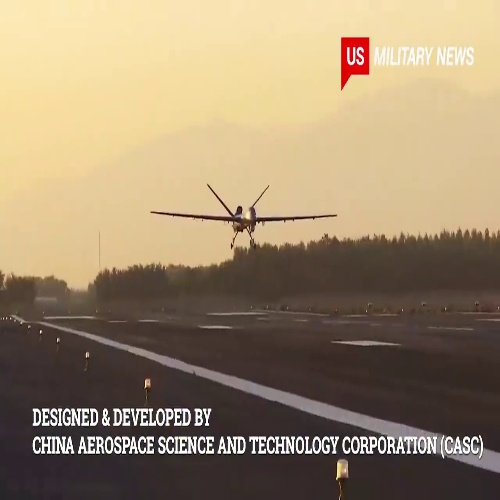uav: (153, 184, 338, 252)
